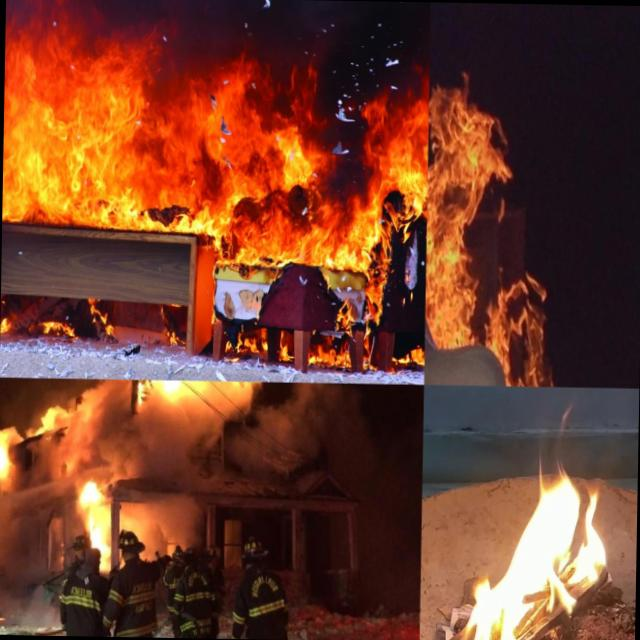fire: (0, 16, 429, 372), (423, 80, 548, 386), (458, 470, 610, 640), (76, 472, 113, 544), (152, 380, 238, 403), (0, 433, 9, 489)
smoke: (120, 401, 220, 533), (9, 377, 122, 472), (268, 382, 342, 489), (9, 471, 76, 544), (8, 544, 58, 630), (0, 491, 10, 599)
